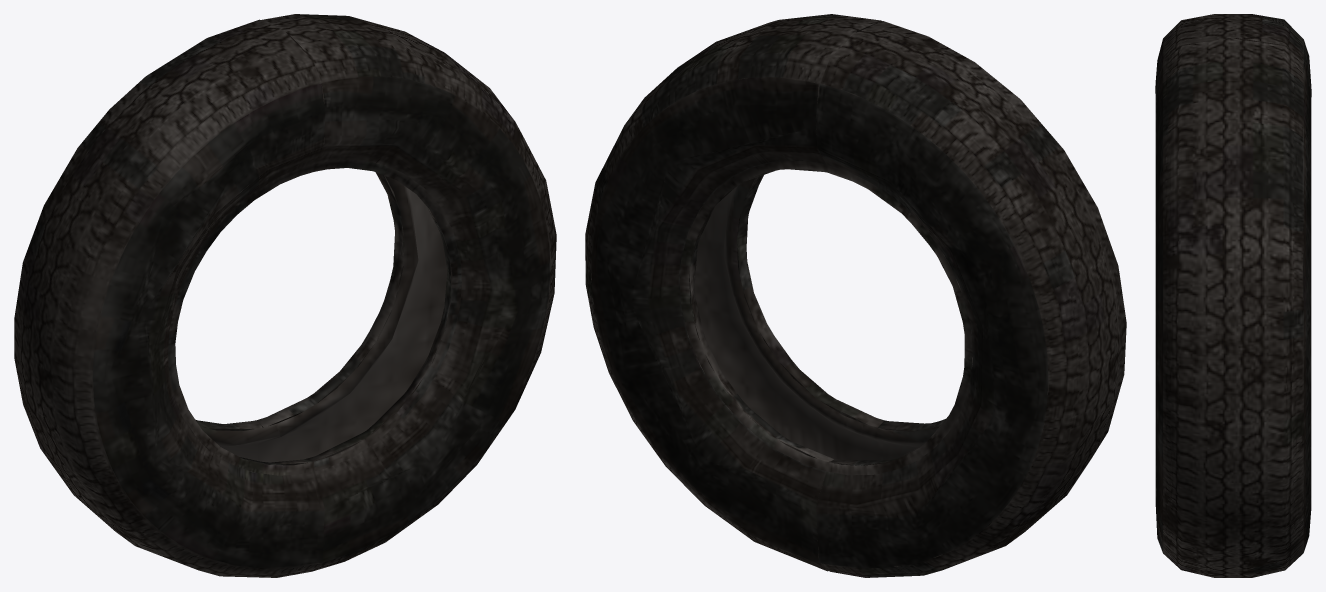
File: old_tyre.glb
3 views of the same model, side by side, from view 1: azimuth 30°, elevation 25°; view 2: azimuth 150°, elevation 25°; view 3: azimuth 270°, elevation 25° (orthographic). The views are drawn at different scales.
Visible parts, largest first — view 1: old_tyre; view 2: old_tyre; view 3: old_tyre.
Part boxes in pixels (x1,y1,x2,y2): old_tyre: [14, 14, 556, 577]; old_tyre: [585, 14, 1126, 577]; old_tyre: [1155, 14, 1311, 577].
Size of the model in its own units: 0.6002 by 0.6035 by 0.1661.
Materials: 1 (1 with a texture image).
